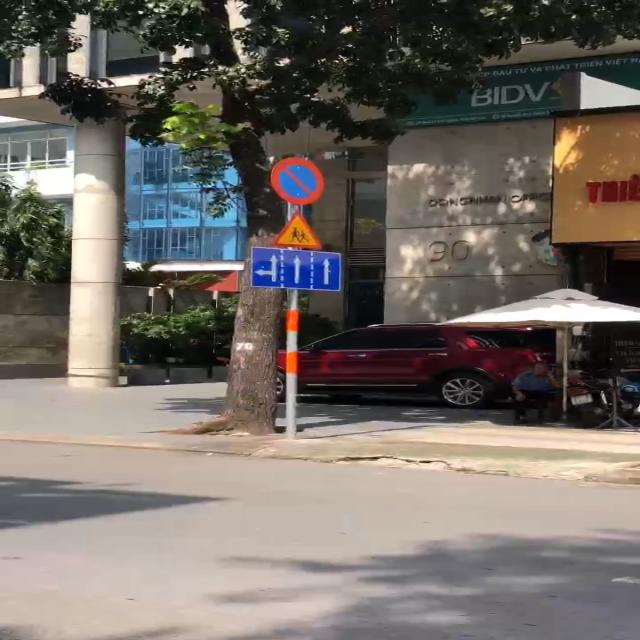Bien bao cam do xe: (268, 154, 331, 204)
Bien bao tre em: (274, 210, 327, 249)
